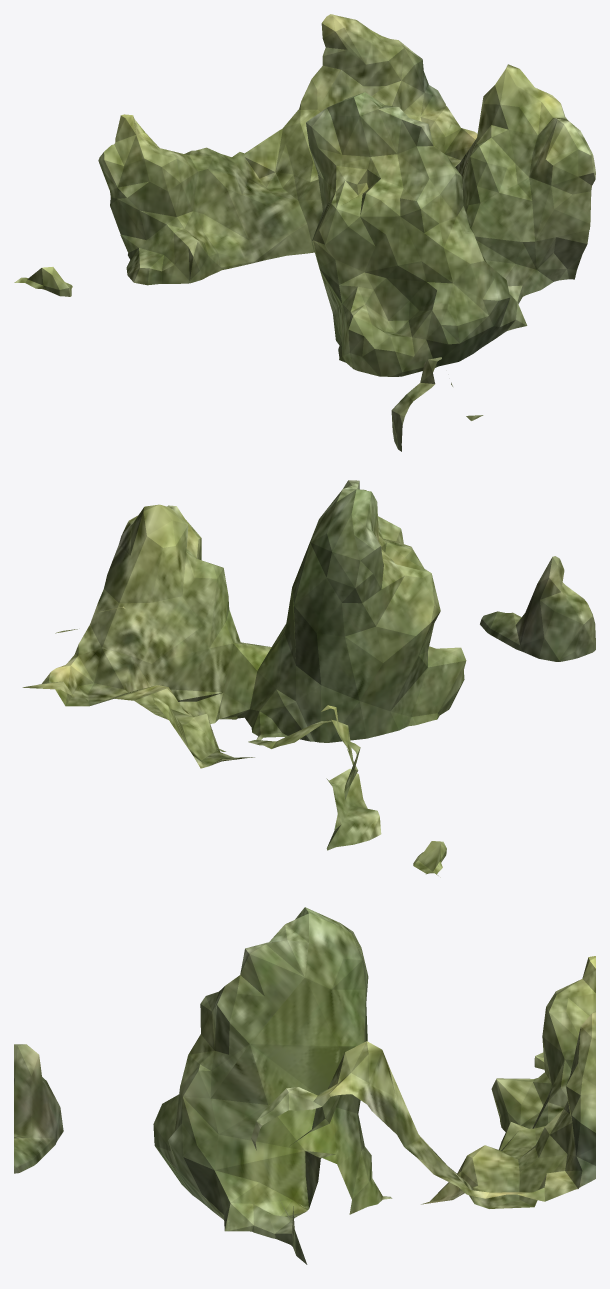
3 renders of one model, top to bottom at view 1: azimuth 30°, elevation 25°; view 2: azimuth 150°, elevation 25°; view 3: azimuth 270°, elevation 25°, orthographic. The views are drawn at different scales.
Bounding box in the file's own units: 5.35 × 2.83 × 5.9.
Materials: 2 (2 with a texture image).
